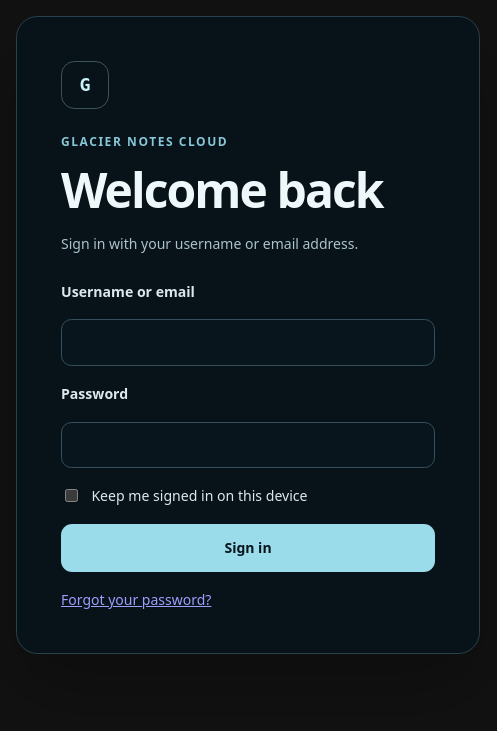
LoginComponent › associates required-field feedback with both login fields
Click the submit button at (248, 548), box [61, 524, 435, 572]
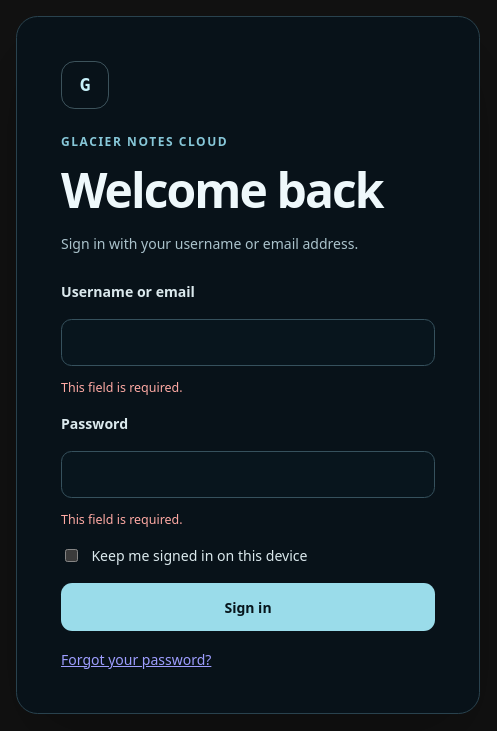
expect the text with id "identifier-error" shows "required": met, box [61, 379, 183, 396]
